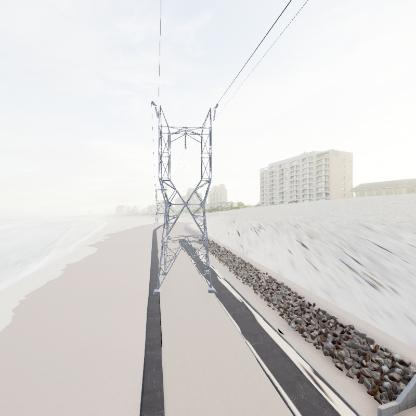tower: (147, 96, 224, 294)
